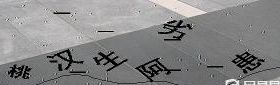chinese: (44, 47, 81, 74), (231, 47, 266, 74), (161, 19, 195, 43), (94, 51, 129, 71), (134, 60, 169, 80), (11, 61, 35, 81)
